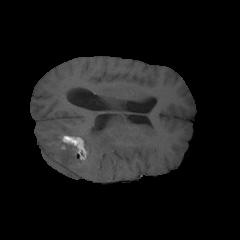glioma: (39, 123, 116, 178)
